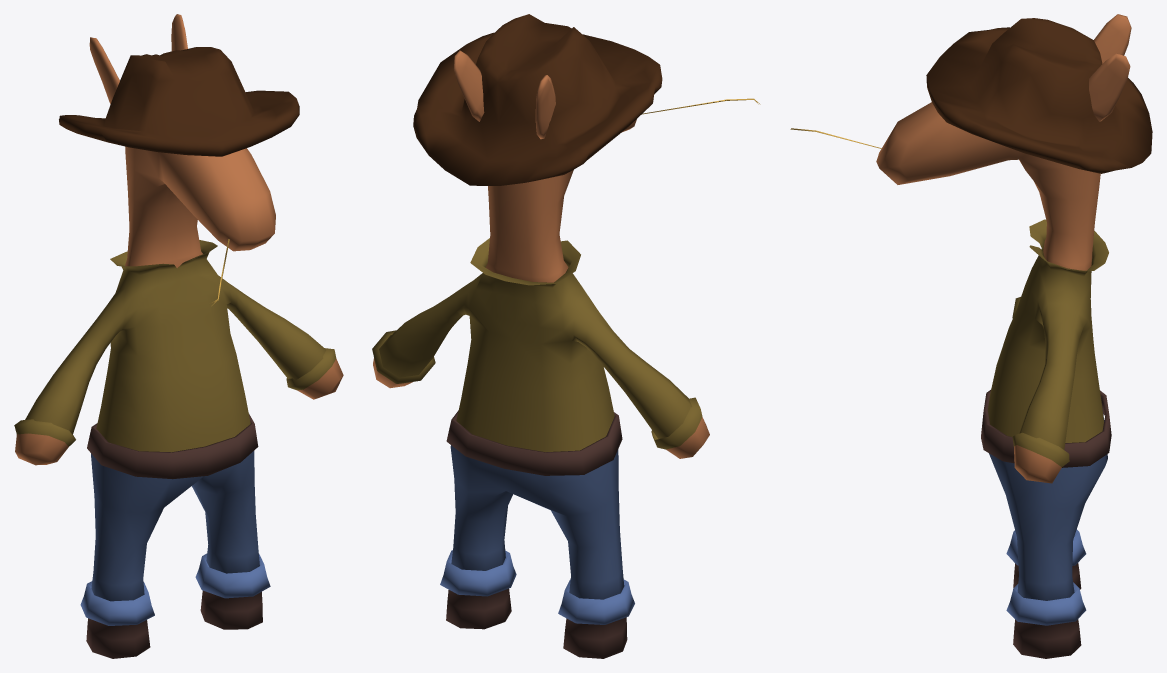
File: Cheval.fbx
3 views of the same model, side by side, from view 1: azimuth 30°, elevation 25°; view 2: azimuth 150°, elevation 25°; view 3: azimuth 270°, elevation 25° (orthographic). The views are drawn at different scales.
Parts seen in each view (by area): view 1: Cheval; view 2: Cheval; view 3: Cheval.
Part boxes in pixels (x1,y1,x2,y2): Cheval: (14, 14, 343, 658); Cheval: (372, 14, 760, 658); Cheval: (790, 14, 1152, 658).
Size of the model in its own units: 730 by 1266 by 707.
